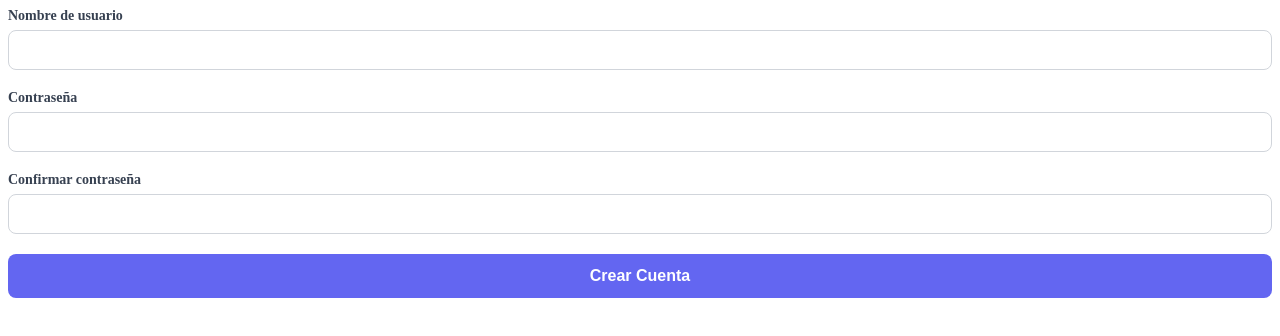
Test: RegisterForm › shows mismatch error when confirm password is different
The width and height of the screenshot is (1280, 336).
Type "valid_user" into the field labelled "Nombre de usuario" at (640, 50), box [8,30,1272,70]
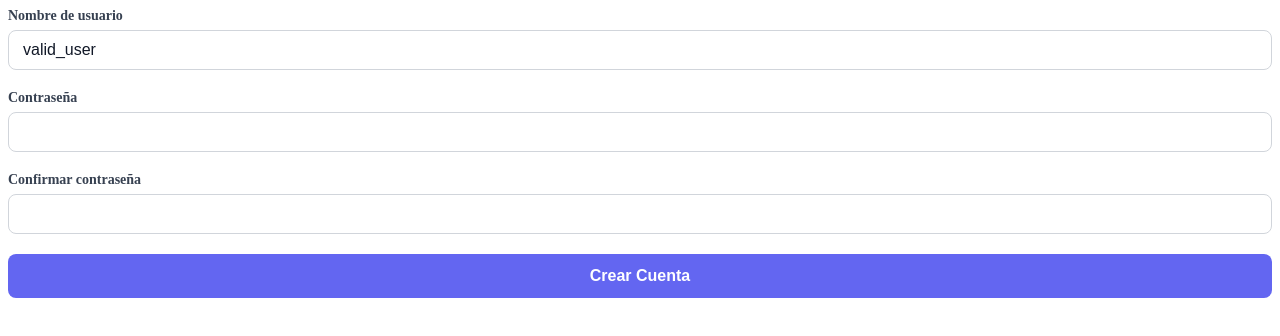
Type "MyPassword123" into the password field labelled "Contraseña" at (640, 132), box [8,112,1272,152]
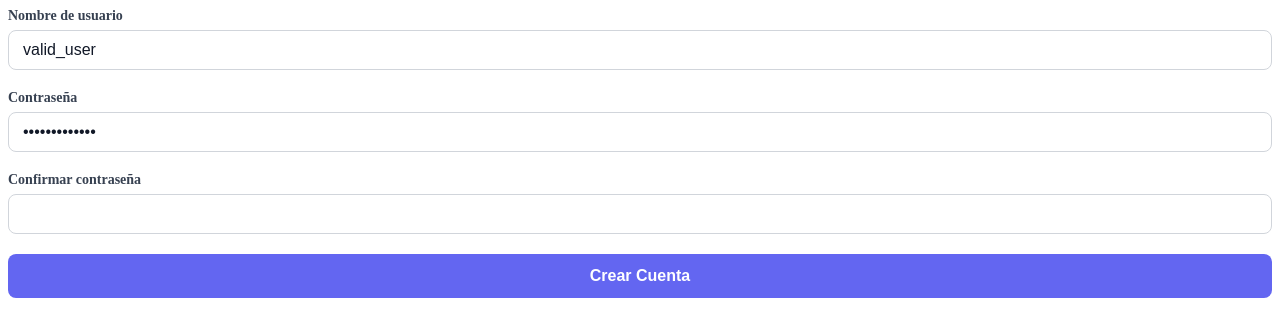
Type "OtherPassword123" into the password field labelled "Confirmar contraseña" at (640, 214), box [8,194,1272,234]
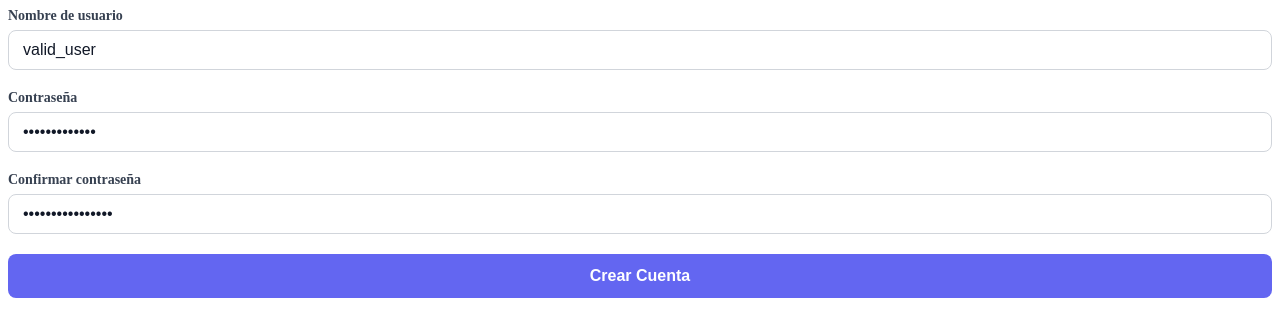
Submit the form from the button "Crear Cuenta", box [8,254,1272,298]
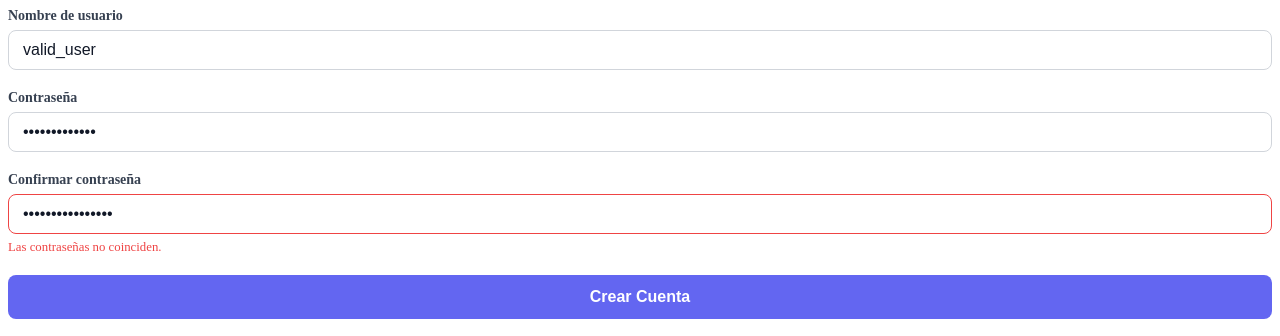
Expected: the text "Las contraseñas no coinciden." is shown, [8,240,162,254]
